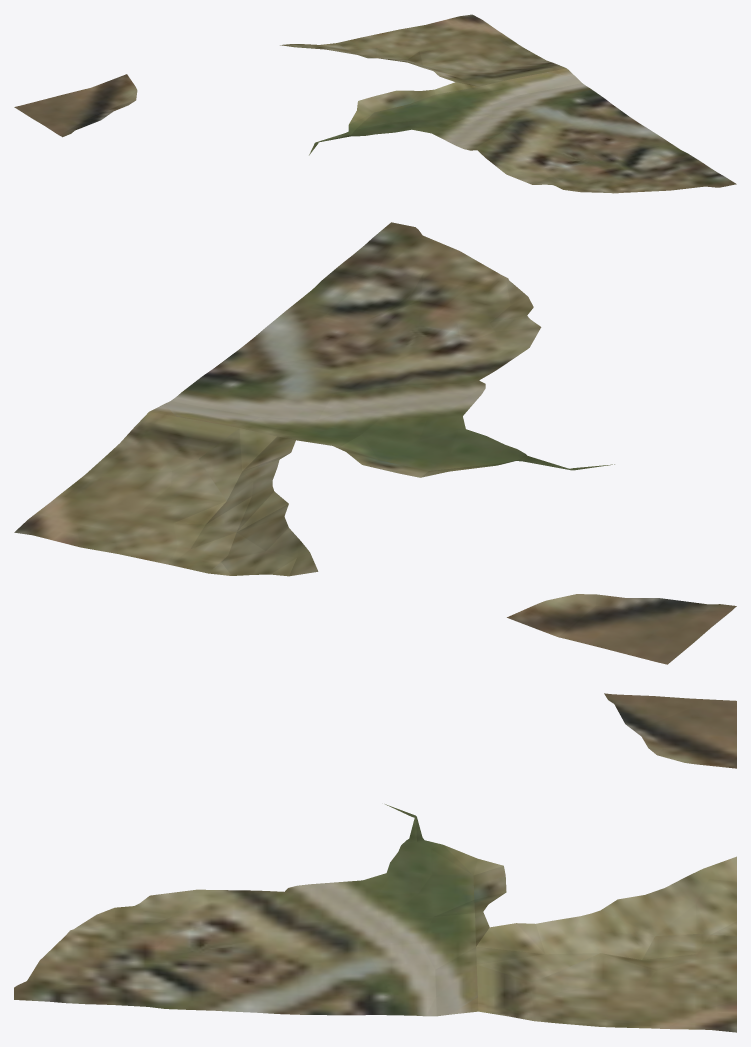
3 renders of one model, top to bottom at view 1: azimuth 30°, elevation 25°; view 2: azimuth 150°, elevation 25°; view 3: azimuth 270°, elevation 25°, orthographic. The views are drawn at different scales.
Size of the model in its own units: 52.22 by 2.69 by 52.22.
Materials: 1 (1 with a texture image).
